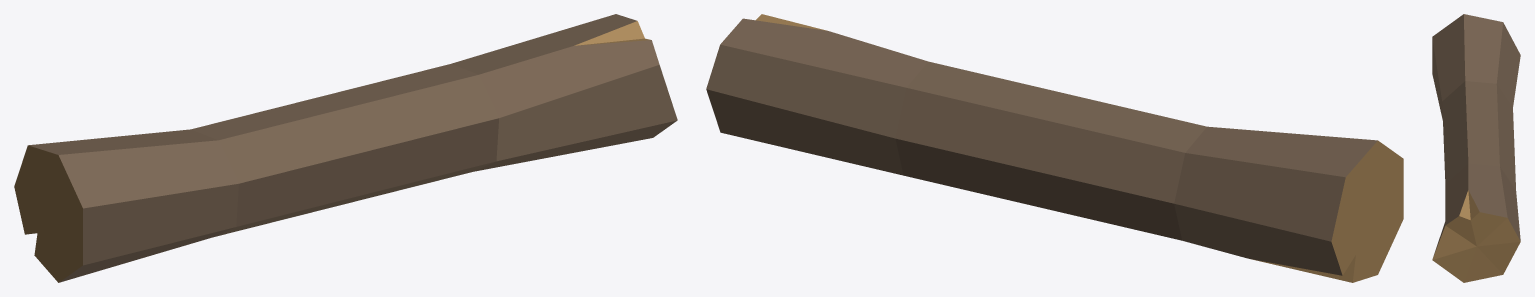
Rendered from Firewood_w_Snow.fbx.
3 views of the same model, side by side, from view 1: azimuth 30°, elevation 25°; view 2: azimuth 150°, elevation 25°; view 3: azimuth 270°, elevation 25° (orthographic). The views are drawn at different scales.
Visible parts, largest first — view 1: Firewood; view 2: Firewood; view 3: Firewood.
Part boxes in pixels (<box>): Firewood: <box>14,14,677,282</box>; Firewood: <box>706,14,1403,282</box>; Firewood: <box>1432,14,1520,282</box>.
Bounding box in the file's own units: 226 × 46.44 × 45.27.
